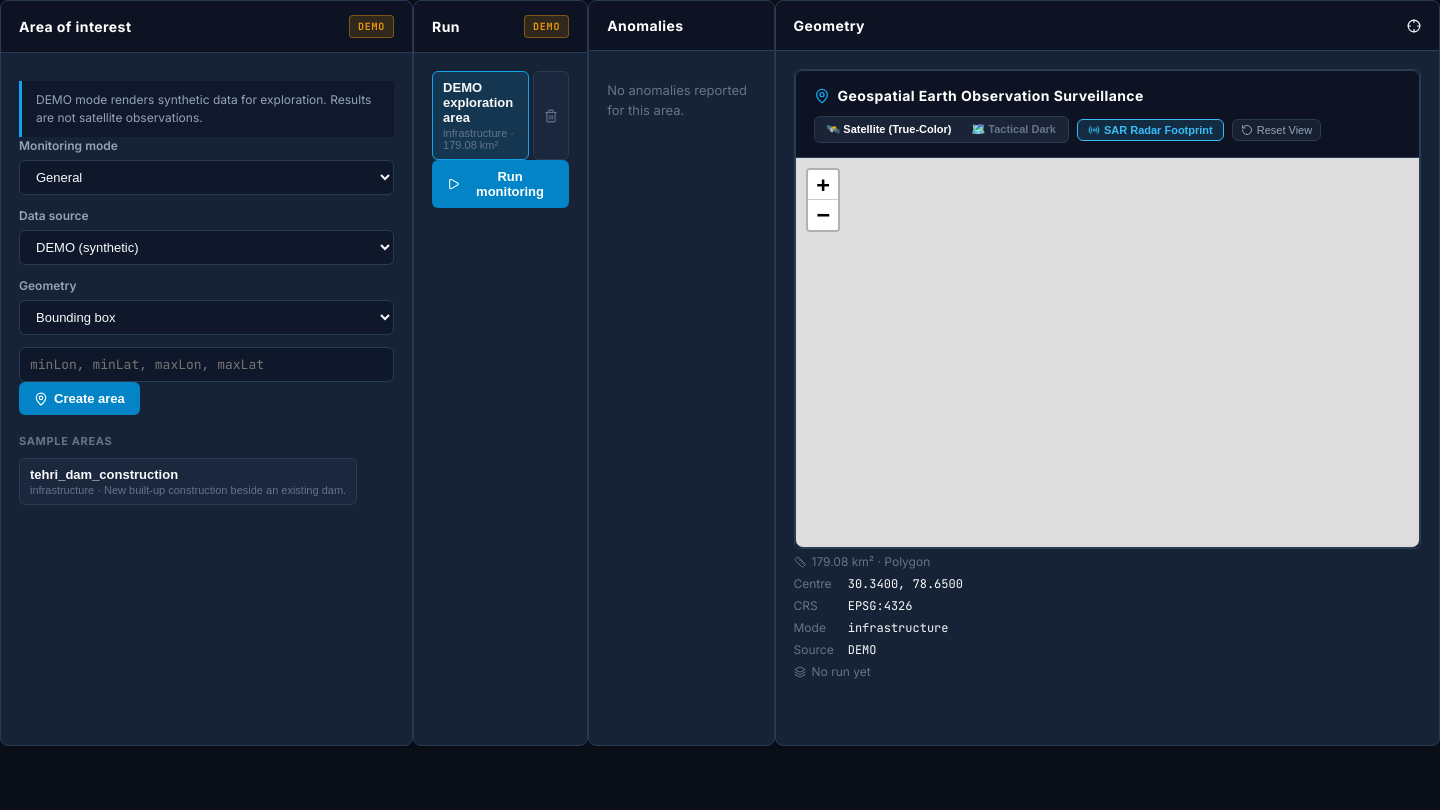
it: AoiMonitoringView › refuses to create an under-specified polygon instead of guessing
Select "Polygon (click map)" in the dropdown named "Geometry type" at (207, 318), box [19,300,394,335]
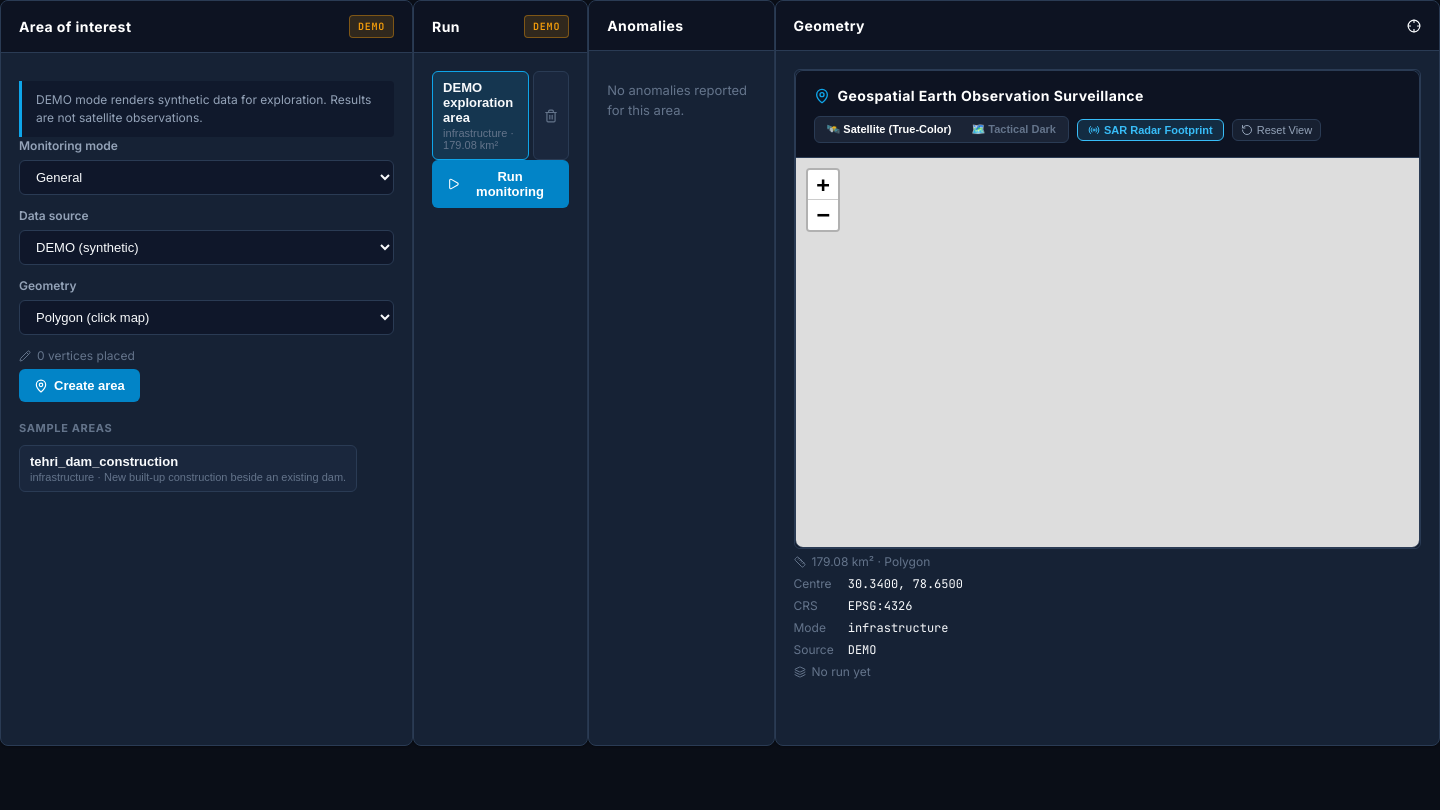
expect the element with test id "polygon-vertex-count" shows "0 vertices": met, box [19,348,135,363]
Click the button "Create area" at (79, 386), box [19,369,140,402]
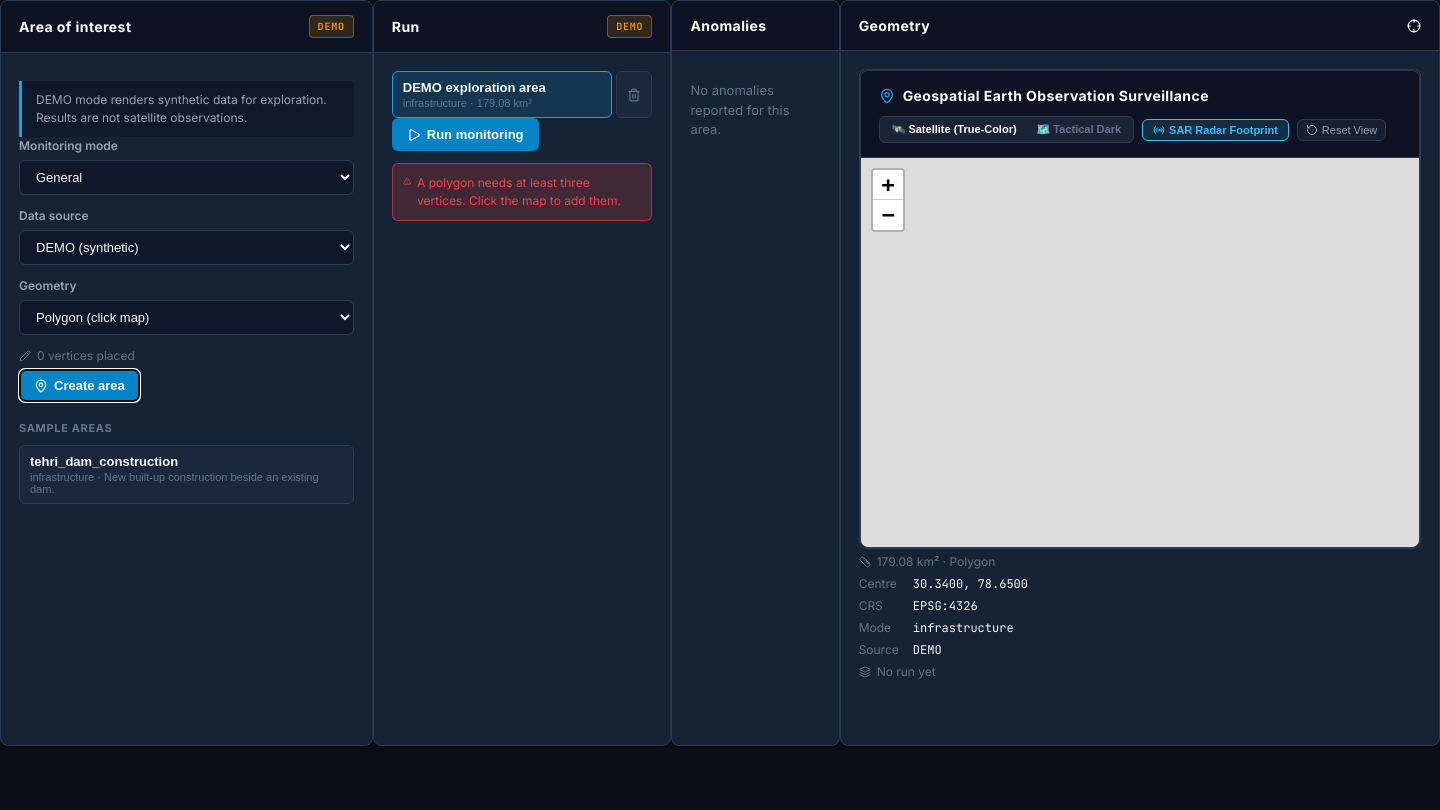
expect the text "at least three vertices" is shown: met, box [417,175,621,208]
